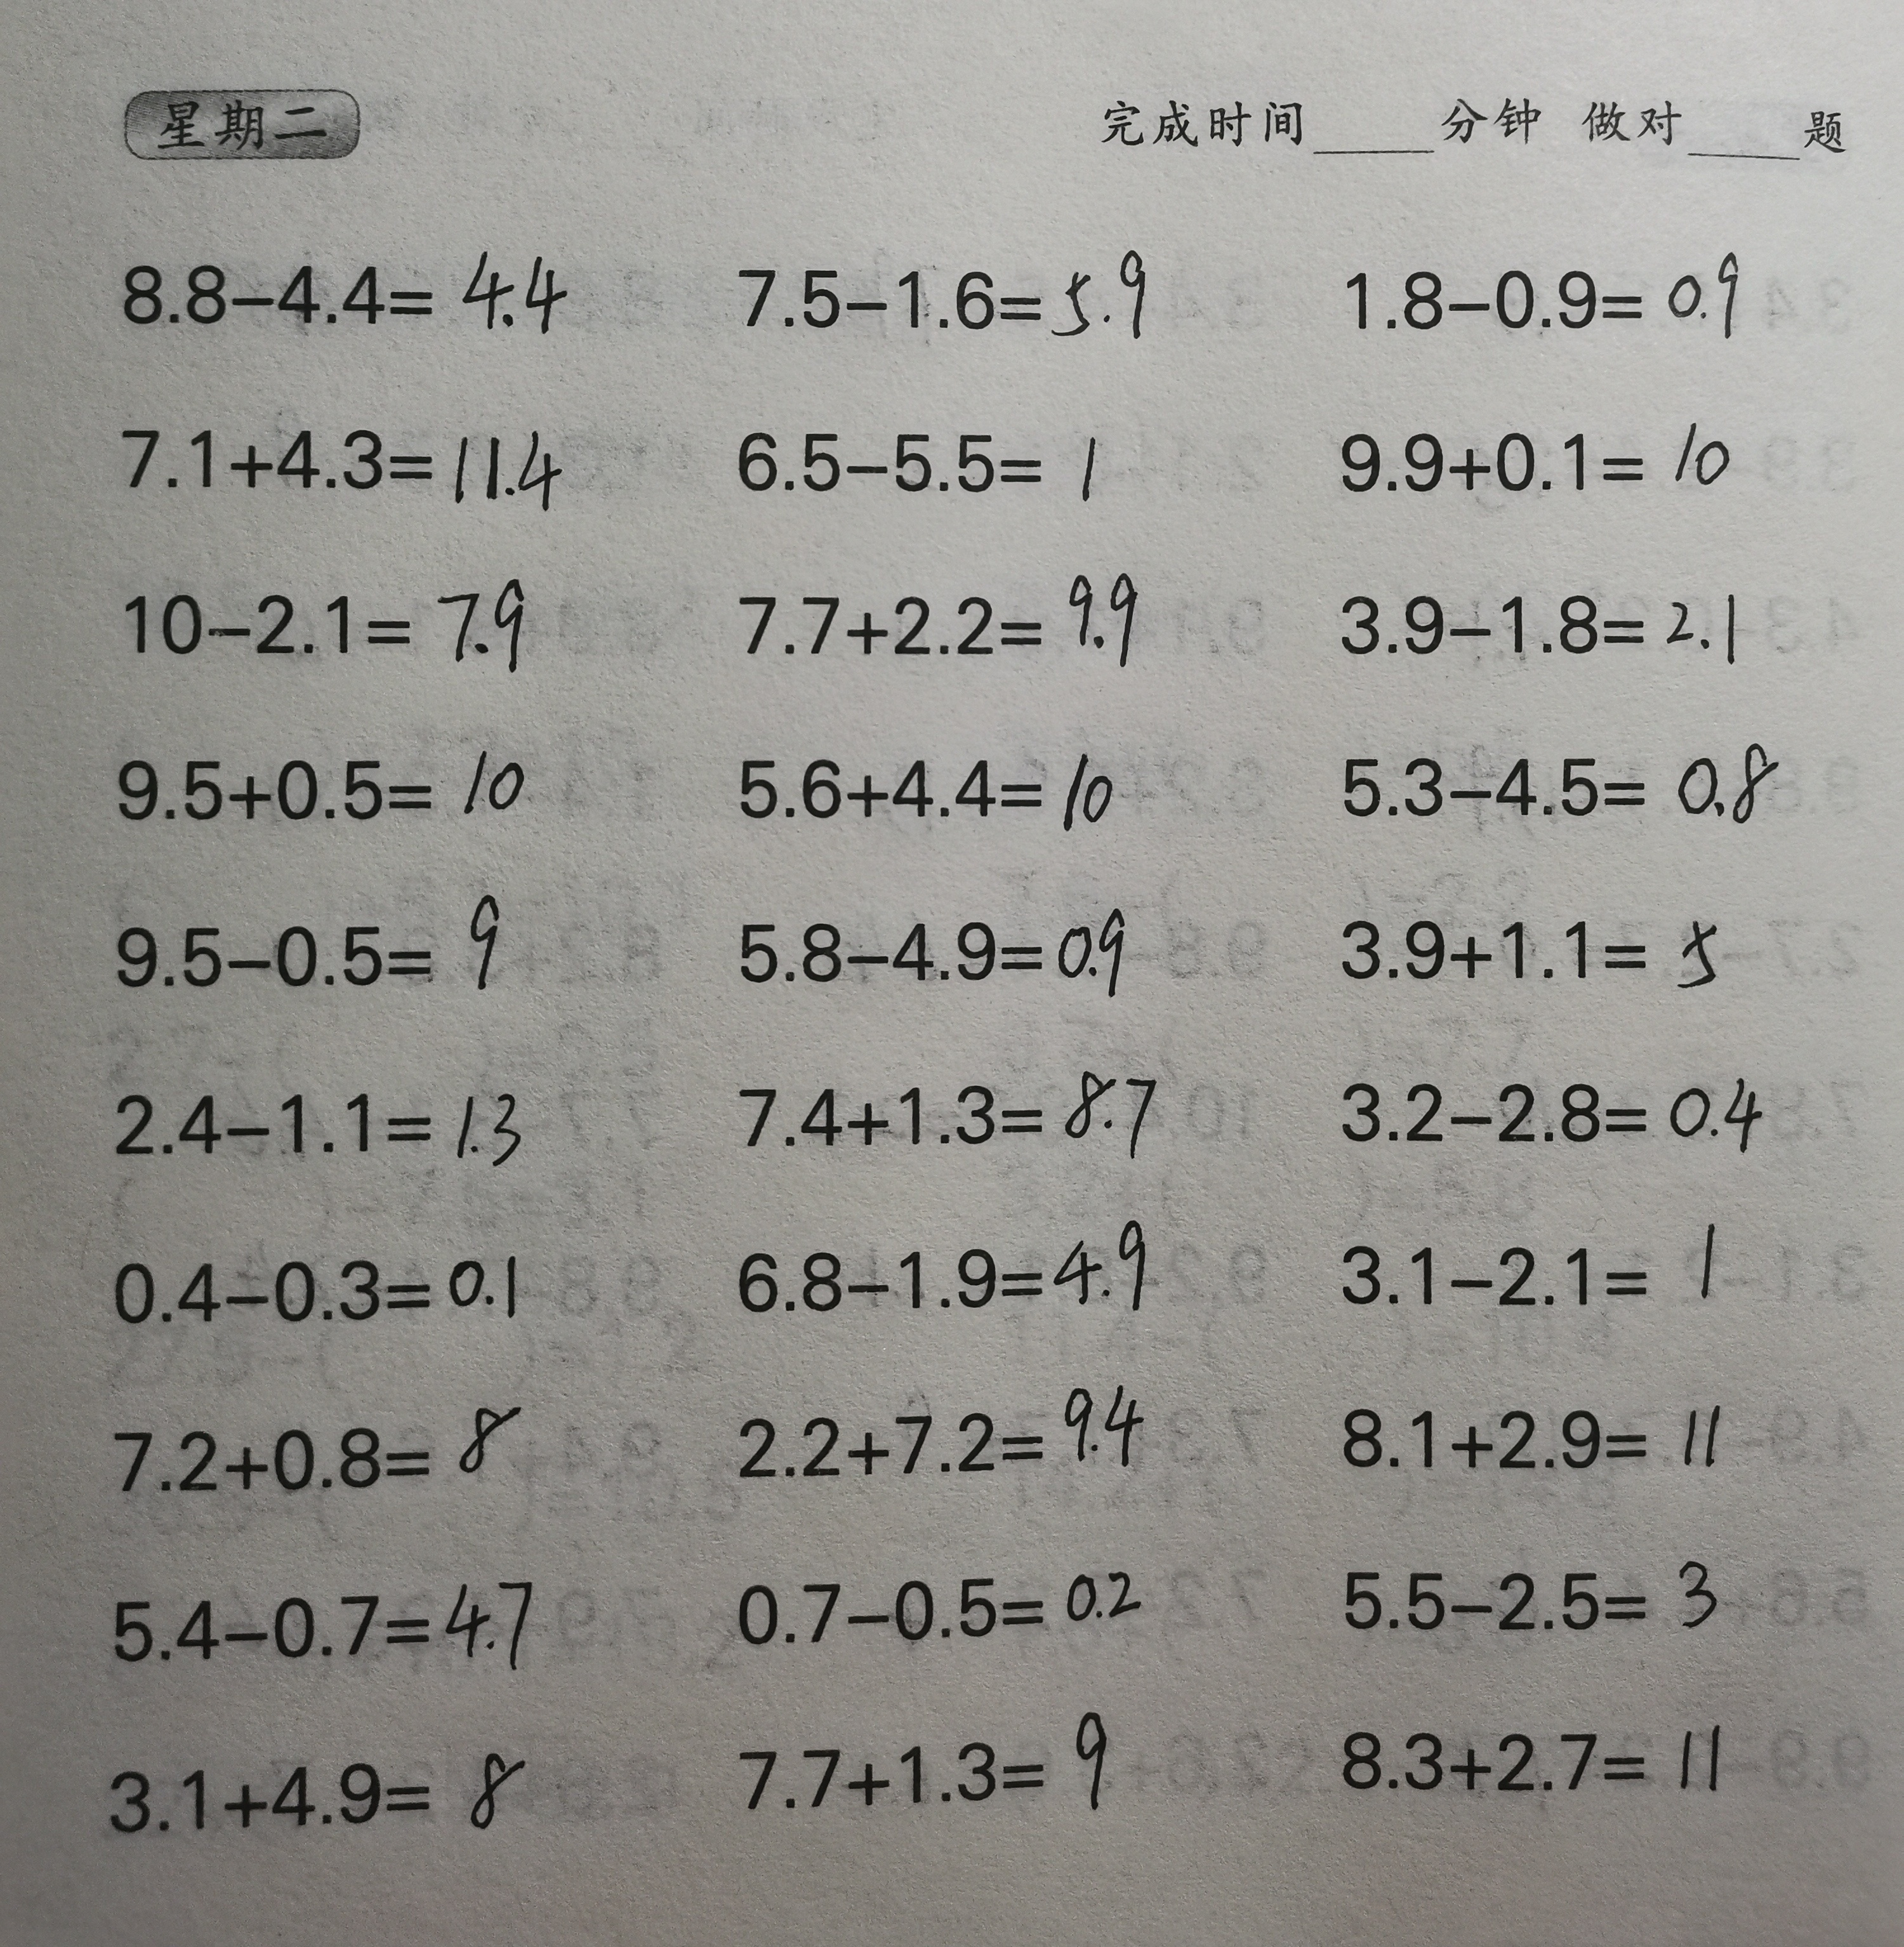equation: (101, 551, 560, 692), (718, 1689, 1154, 1837), (727, 542, 1163, 689), (106, 865, 528, 1013), (98, 1733, 537, 1870), (1334, 211, 1766, 350), (722, 1044, 1182, 1175), (731, 1358, 1163, 1496), (722, 221, 1166, 354), (112, 228, 581, 354), (1323, 713, 1789, 838), (96, 1564, 554, 1691), (106, 720, 563, 847), (96, 1060, 544, 1189), (105, 390, 570, 514), (1323, 554, 1780, 675), (1323, 1523, 1766, 1645), (717, 1217, 1179, 1333), (1318, 1698, 1747, 1821), (703, 1544, 1163, 1659), (1318, 392, 1770, 509), (720, 882, 1132, 1009), (1318, 1051, 1778, 1163), (96, 1225, 532, 1340), (1322, 1203, 1744, 1321), (91, 1393, 539, 1504), (1315, 1367, 1730, 1487), (717, 392, 1135, 511), (720, 727, 1135, 845), (1318, 882, 1738, 999)
